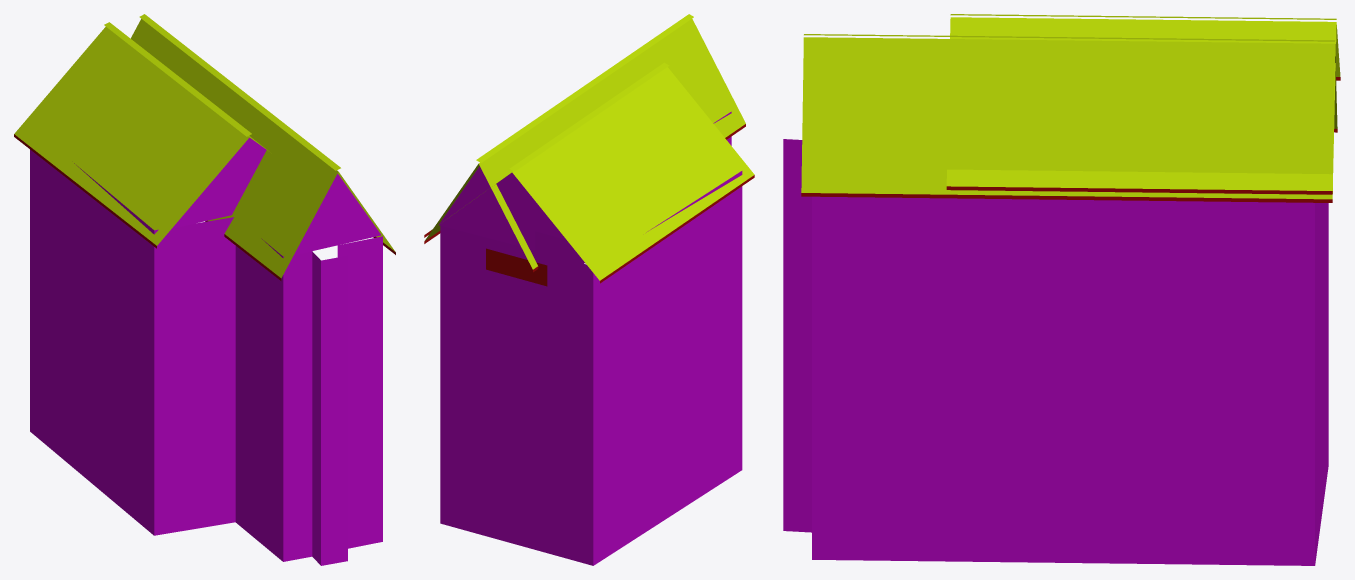
The model's file is bgj_359.glb.
3 views of the same model, side by side, from view 1: azimuth 30°, elevation 25°; view 2: azimuth 150°, elevation 25°; view 3: azimuth 270°, elevation 25° (orthographic). The views are drawn at different scales.
Parts seen in each view (by area): view 1: bgj_359; view 2: bgj_359; view 3: bgj_359.
Part boxes in pixels (left/top/right/bottom): bgj_359: left=14, top=14, right=395, bottom=565; bgj_359: left=424, top=14, right=754, bottom=565; bgj_359: left=783, top=14, right=1340, bottom=565.
Size of the model in its own units: 8.32 by 16.23 by 16.5.
